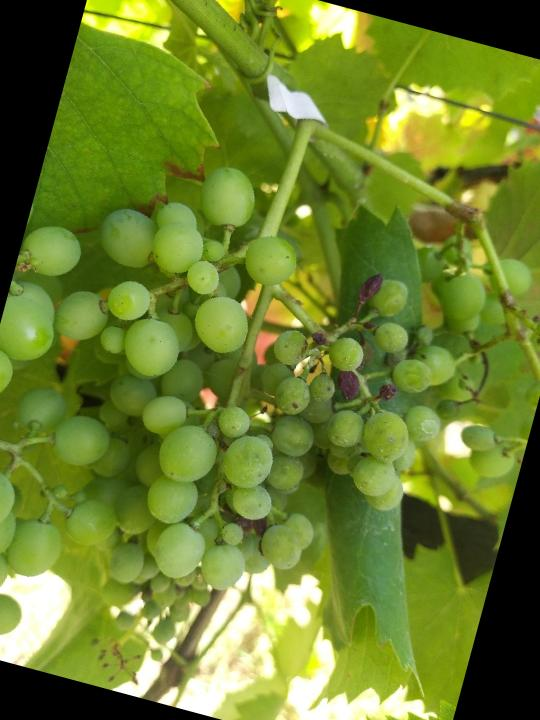grape: (9, 132, 499, 657)
